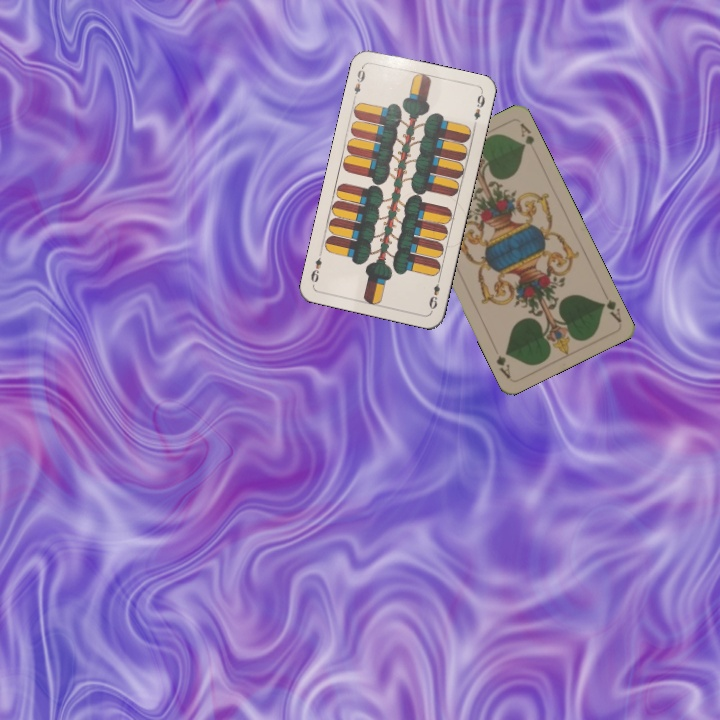E9: (349, 62, 368, 102), (425, 273, 443, 312)
GA: (597, 295, 624, 325)
